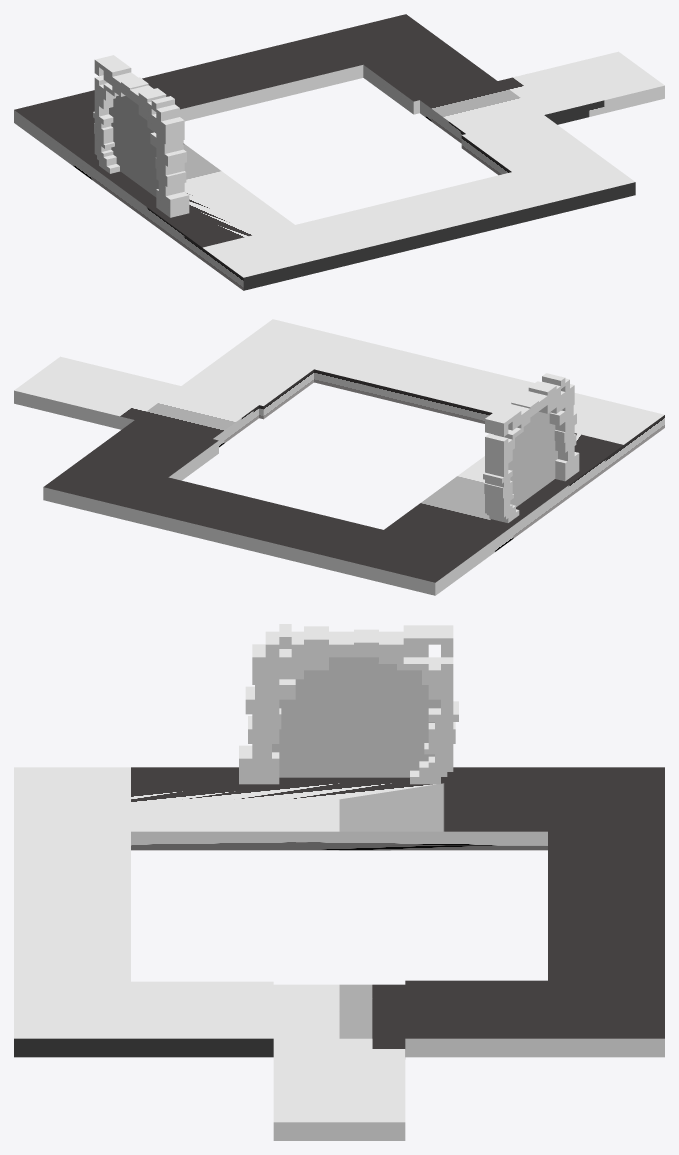
Rendered from RPG Zone.fbx.
3 views of the same model, one above another, from view 1: azimuth 30°, elevation 25°; view 2: azimuth 150°, elevation 25°; view 3: azimuth 270°, elevation 25° (orthographic). The views are drawn at different scales.
Parts seen in each view (by area): view 1: Cube, ArkV2.001, Veil.003; view 2: Cube, ArkV2.001, Veil.003; view 3: Cube, Veil.003, ArkV2.001.
Boxes of the visible parts, x1,y1,x2,y2 form: Cube: (14,14,664,290); ArkV2.001: (93,55,189,217); Veil.003: (109,95,158,197); Cube: (14,319,664,595); ArkV2.001: (483,373,579,522); Veil.003: (508,411,557,507); Cube: (14,767,664,1140); Veil.003: (272,657,440,777); ArkV2.001: (239,624,458,784).
Bounding box in the file's own units: 6791 × 1482 × 5262.
